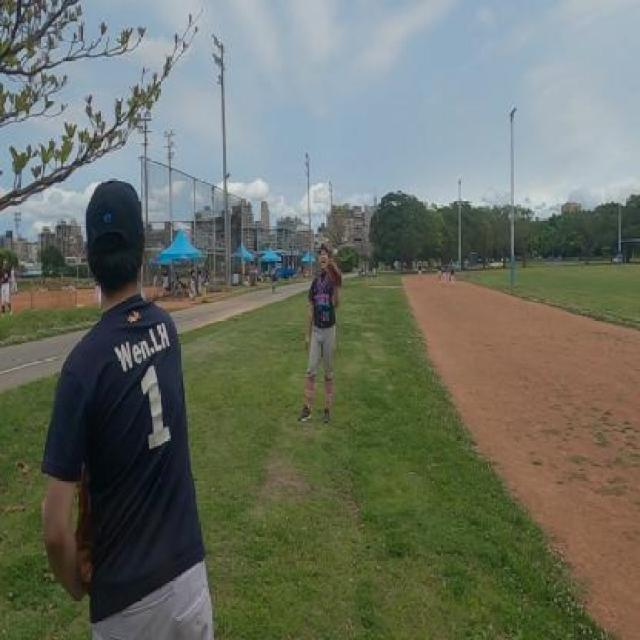baseball: (332, 248, 337, 258)
